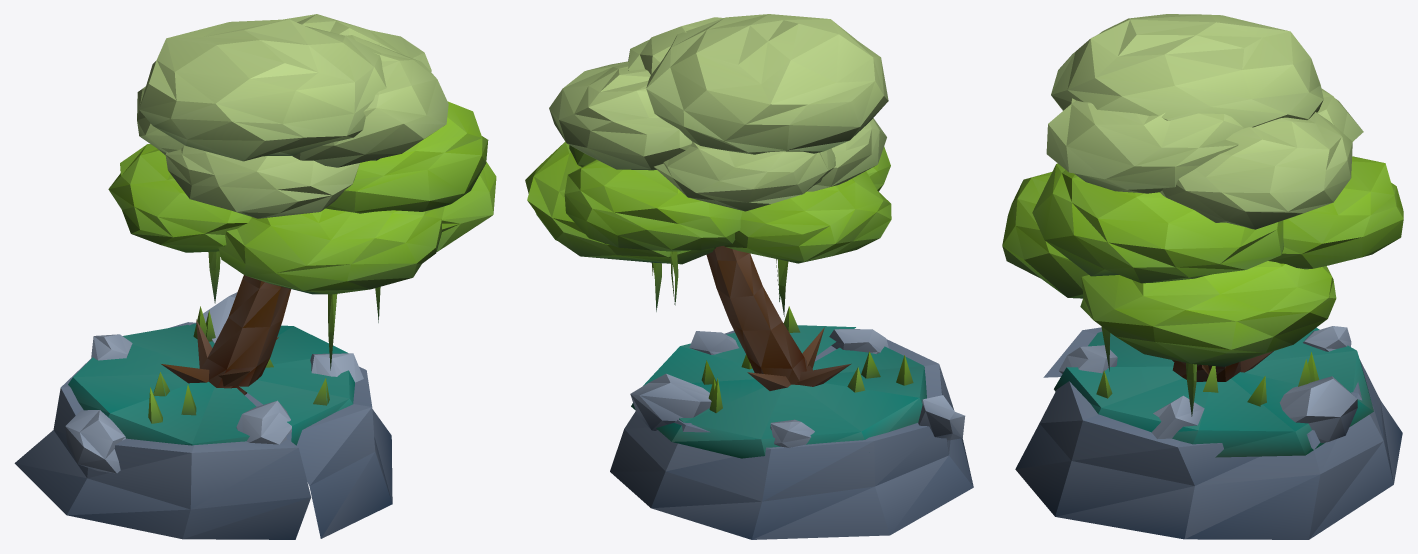
File: pohon_river_highland_721577.glb
3 views of the same model, side by side, from view 1: azimuth 30°, elevation 25°; view 2: azimuth 150°, elevation 25°; view 3: azimuth 270°, elevation 25° (orthographic). The views are drawn at different scales.
Parts seen in each view (by area): view 1: Dedaunan_Dan_Sulur, Pulau_Batu_Tepi_Sungai, Batang_Dan_Akar; view 2: Dedaunan_Dan_Sulur, Pulau_Batu_Tepi_Sungai, Batang_Dan_Akar; view 3: Dedaunan_Dan_Sulur, Pulau_Batu_Tepi_Sungai, Batang_Dan_Akar.
Part boxes in pixels (box(x1,y1,x2,y2)): Dedaunan_Dan_Sulur: box(108, 14, 496, 370); Pulau_Batu_Tepi_Sungai: box(14, 292, 392, 539); Batang_Dan_Akar: box(161, 275, 291, 395); Dedaunan_Dan_Sulur: box(525, 14, 891, 316); Pulau_Batu_Tepi_Sungai: box(610, 306, 973, 539); Batang_Dan_Akar: box(706, 246, 851, 390); Dedaunan_Dan_Sulur: box(1002, 14, 1403, 416); Pulau_Batu_Tepi_Sungai: box(1015, 326, 1402, 539); Batang_Dan_Akar: box(1172, 351, 1273, 381).
Bounding box in the file's own units: 7.14 × 6.74 × 5.46.
